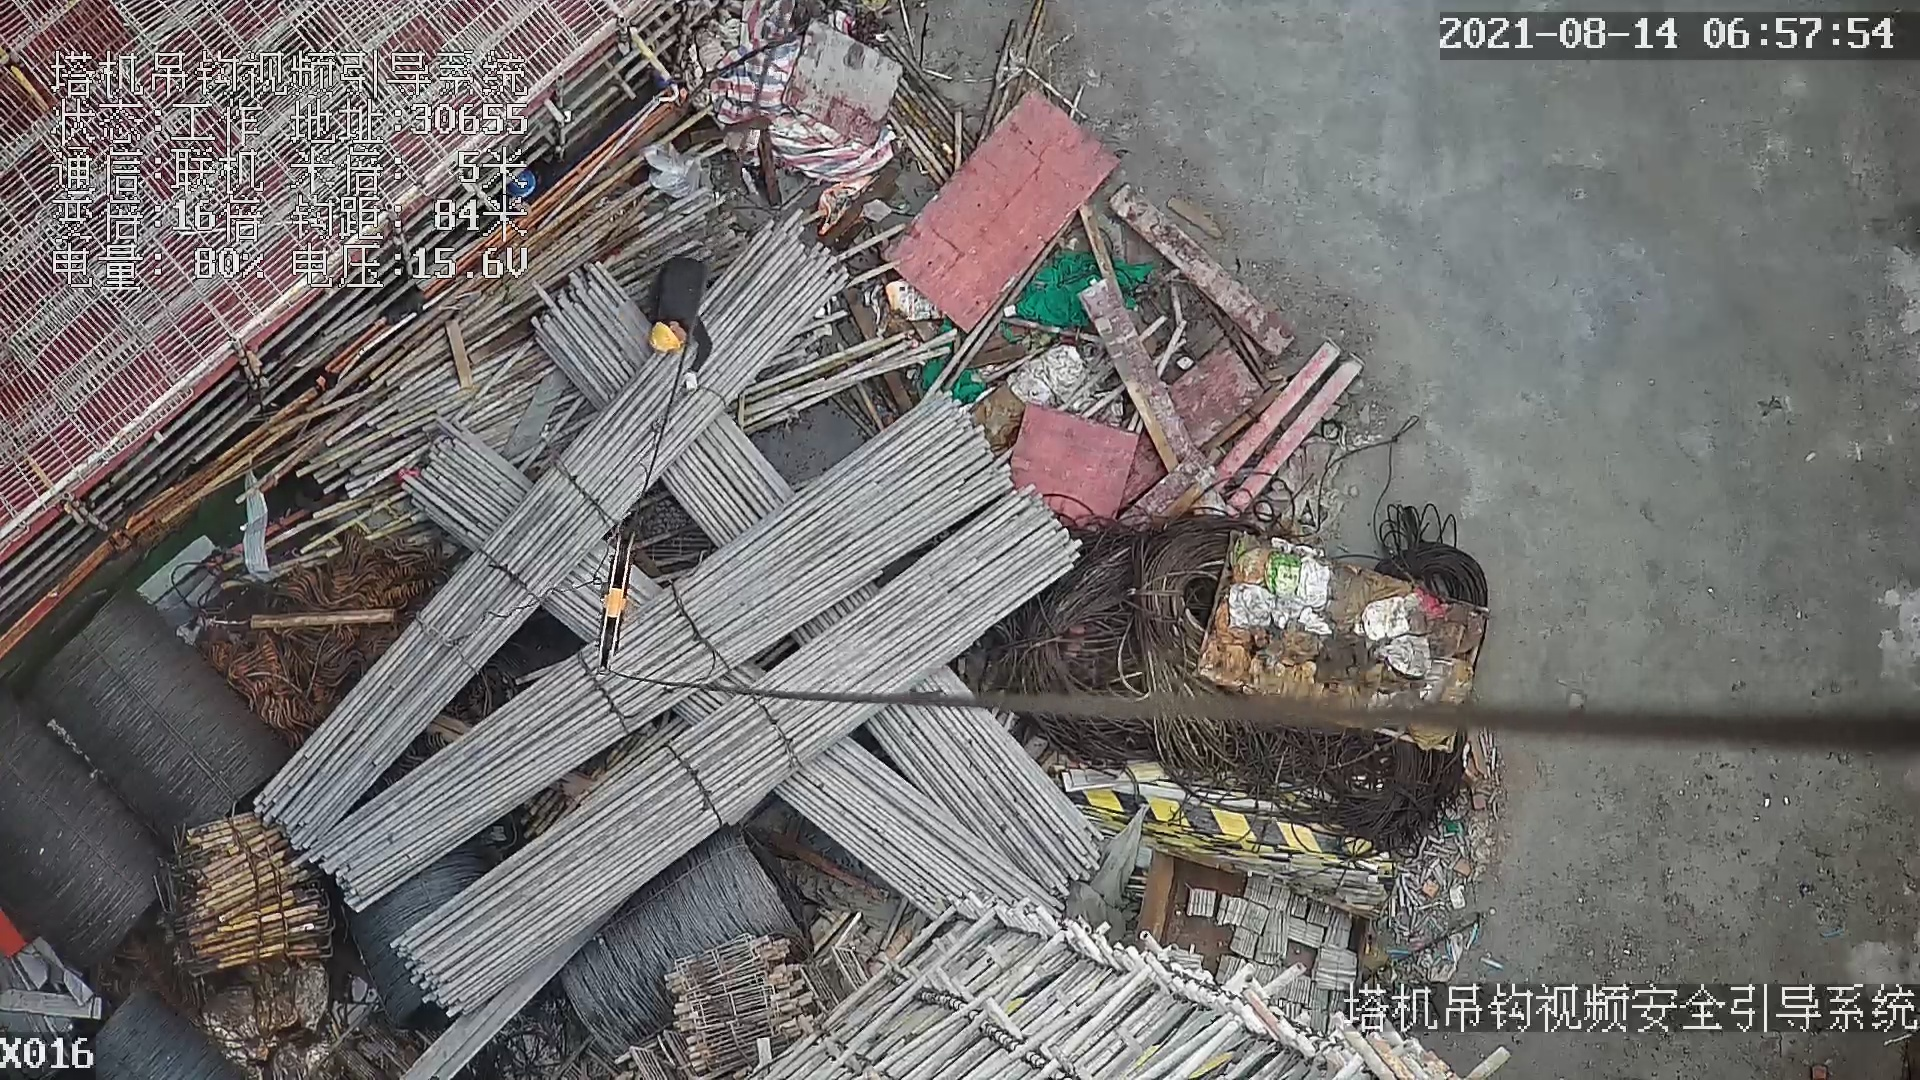helmet: (650, 321, 680, 351)
hook: (591, 535, 645, 677)
person: (650, 259, 714, 390)
rebar: (389, 480, 1083, 1018), (251, 220, 843, 849), (309, 393, 1012, 914), (778, 730, 1066, 923), (865, 662, 1104, 889)
scaffold: (161, 818, 338, 974)
